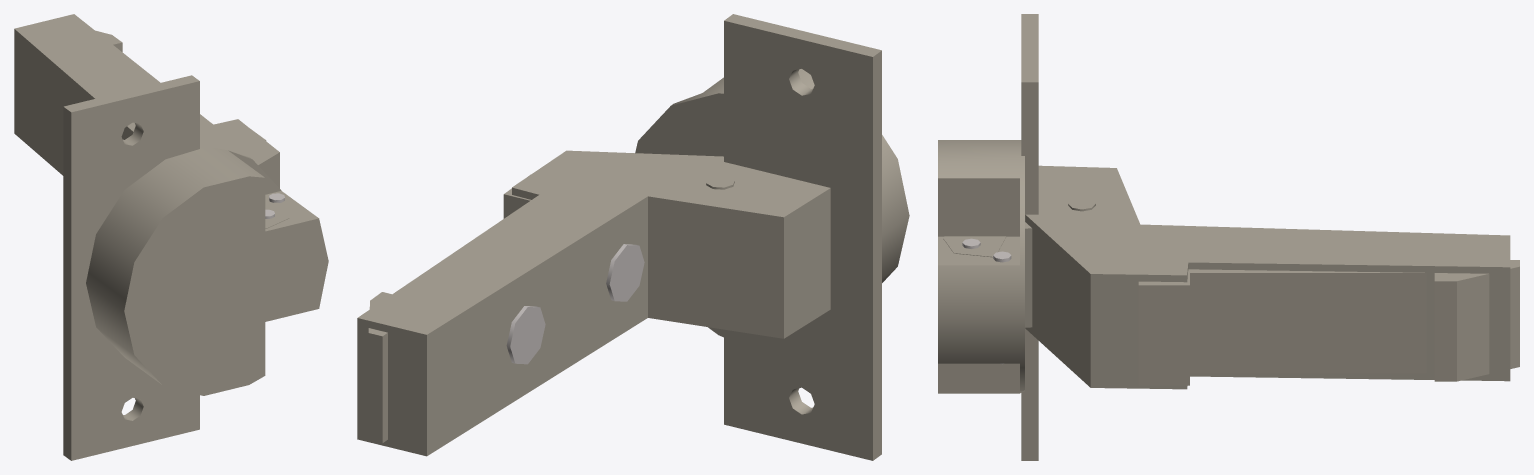
3 views of the same model, side by side, from view 1: azimuth 30°, elevation 25°; view 2: azimuth 150°, elevation 25°; view 3: azimuth 270°, elevation 25° (orthographic). The views are drawn at different scales.
Visible parts, largest first — view 1: bau0045622955-1, bau0050876170-1, bau0016549175-2; view 2: bau0050876170-1, bau0045622955-1, bau0019426112-1; view 3: bau0050876170-1, bau0019426112-1, bau0045622955-1, bau0016549175-2, bau0016549209-1.
Boxes of the visible parts, bbox=[...] form: bau0045622955-1: bbox=[63, 75, 328, 460]; bau0050876170-1: bbox=[14, 14, 279, 188]; bau0016549175-2: bbox=[265, 202, 289, 228]; bau0050876170-1: bbox=[357, 150, 830, 456]; bau0045622955-1: bbox=[635, 14, 909, 460]; bau0019426112-1: bbox=[368, 174, 531, 443]; bau0050876170-1: bbox=[1025, 165, 1510, 389]; bau0019426112-1: bbox=[1138, 260, 1519, 385]; bau0045622955-1: bbox=[938, 14, 1038, 460]; bau0016549175-2: bbox=[943, 236, 1006, 257]; bau0016549209-1: bbox=[1025, 222, 1032, 327].
Bounding box in the file's own units: 42.6 × 57 × 79.35.
